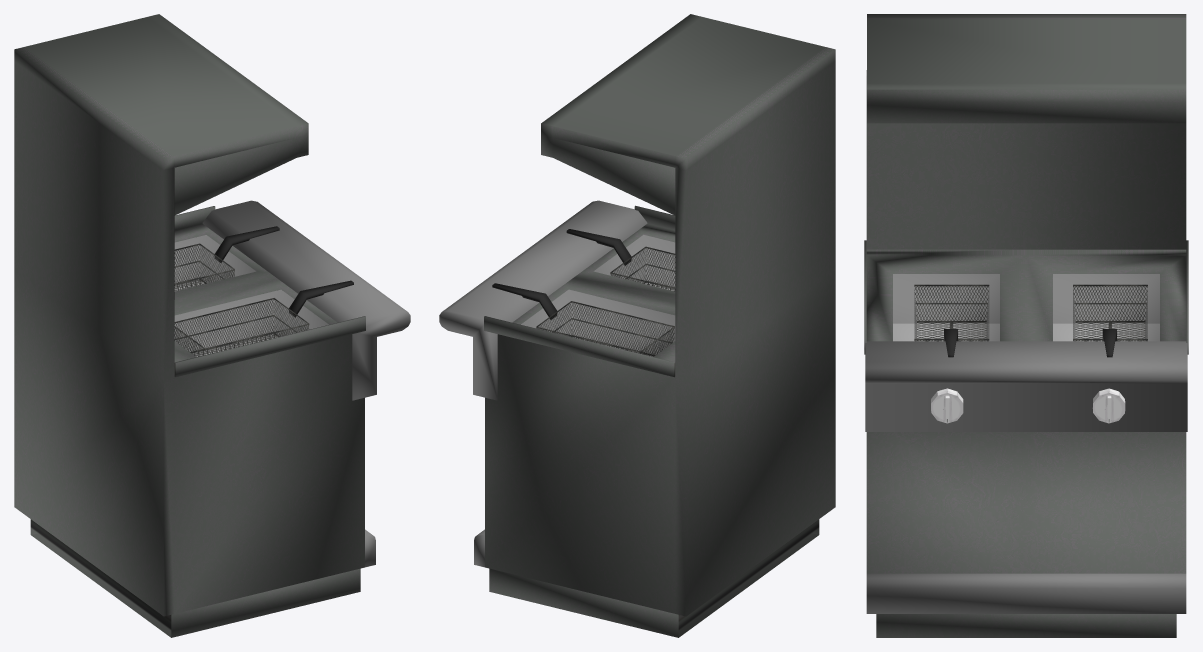
File: Fryer.gltf
3 views of the same model, side by side, from view 1: azimuth 30°, elevation 25°; view 2: azimuth 150°, elevation 25°; view 3: azimuth 270°, elevation 25° (orthographic). The views are drawn at different scales.
Parts seen in each view (by area): view 1: fryer, fryer basket1, fryer basket1 2; view 2: fryer, fryer basket1 2, fryer basket1; view 3: fryer, fryer basket1 2, fryer basket1, dial1, dial2.
Part boxes in pixels (x1,y1,x2,y2): fryer: (14,14,410,637); fryer basket1: (174,280,353,356); fryer basket1 2: (174,226,279,290); fryer: (439,14,835,637); fryer basket1 2: (492,283,674,356); fryer basket1: (566,229,675,291); fryer: (864,14,1188,637); fryer basket1 2: (1073,284,1147,357); fryer basket1: (914,284,989,357); dial1: (931,388,963,423); dial2: (1092,388,1125,423).
Bounding box in the file's own units: 1.67 × 3.15 × 1.78.
Materials: 7 (4 with a texture image).
